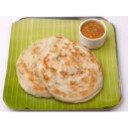parota: (18, 35, 73, 99), (43, 43, 104, 98)
